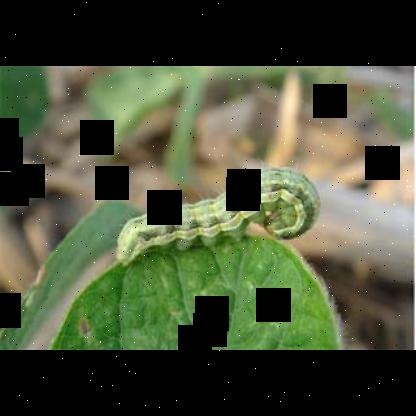oruga: (118, 165, 318, 259)
